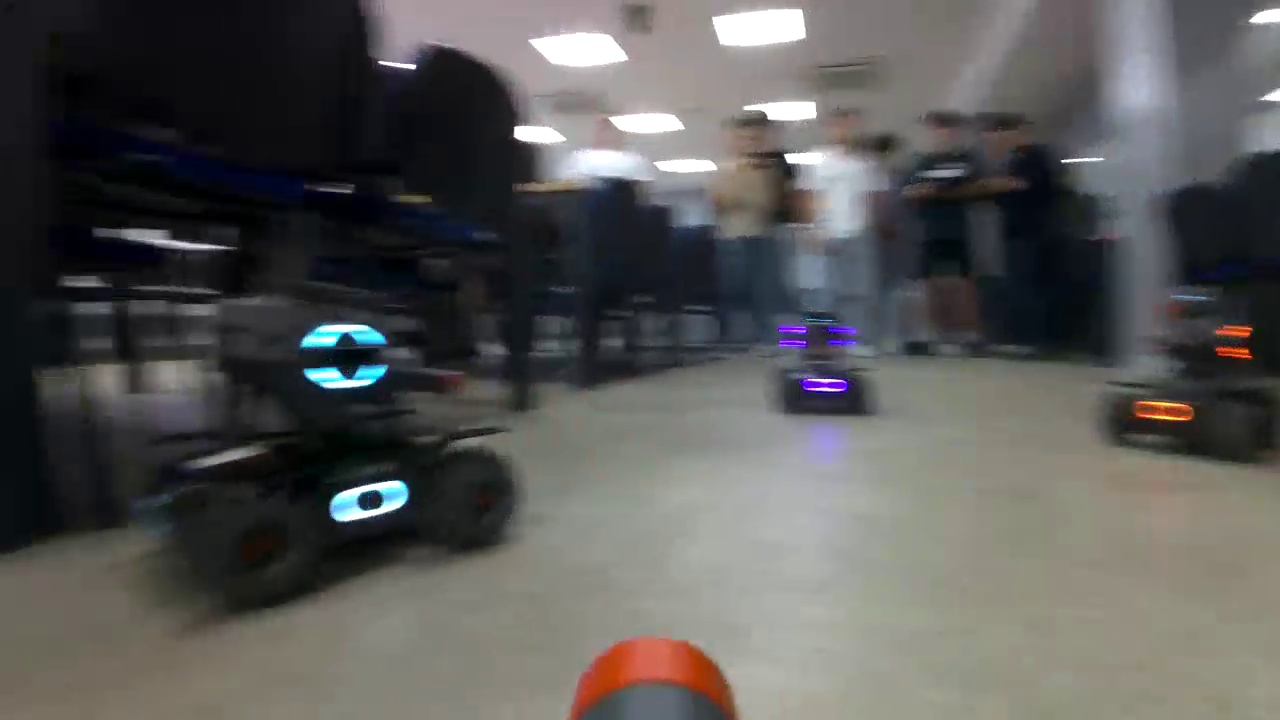robot: (157, 279, 519, 610), (1103, 302, 1280, 464), (777, 309, 870, 419)
